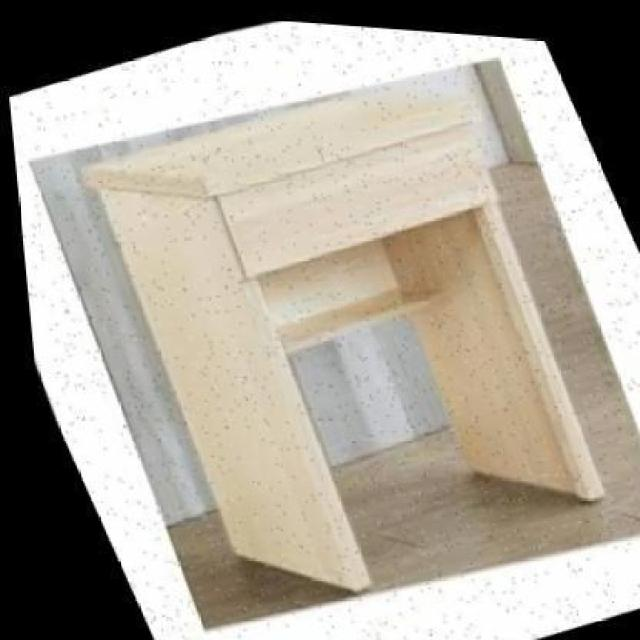tables: (4, 14, 638, 638)
